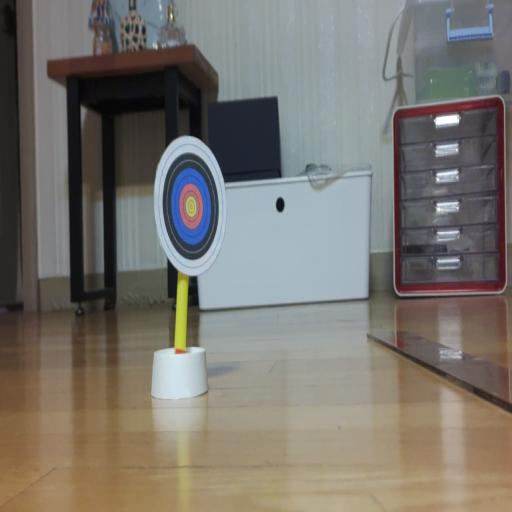target: (154, 136, 227, 275)
